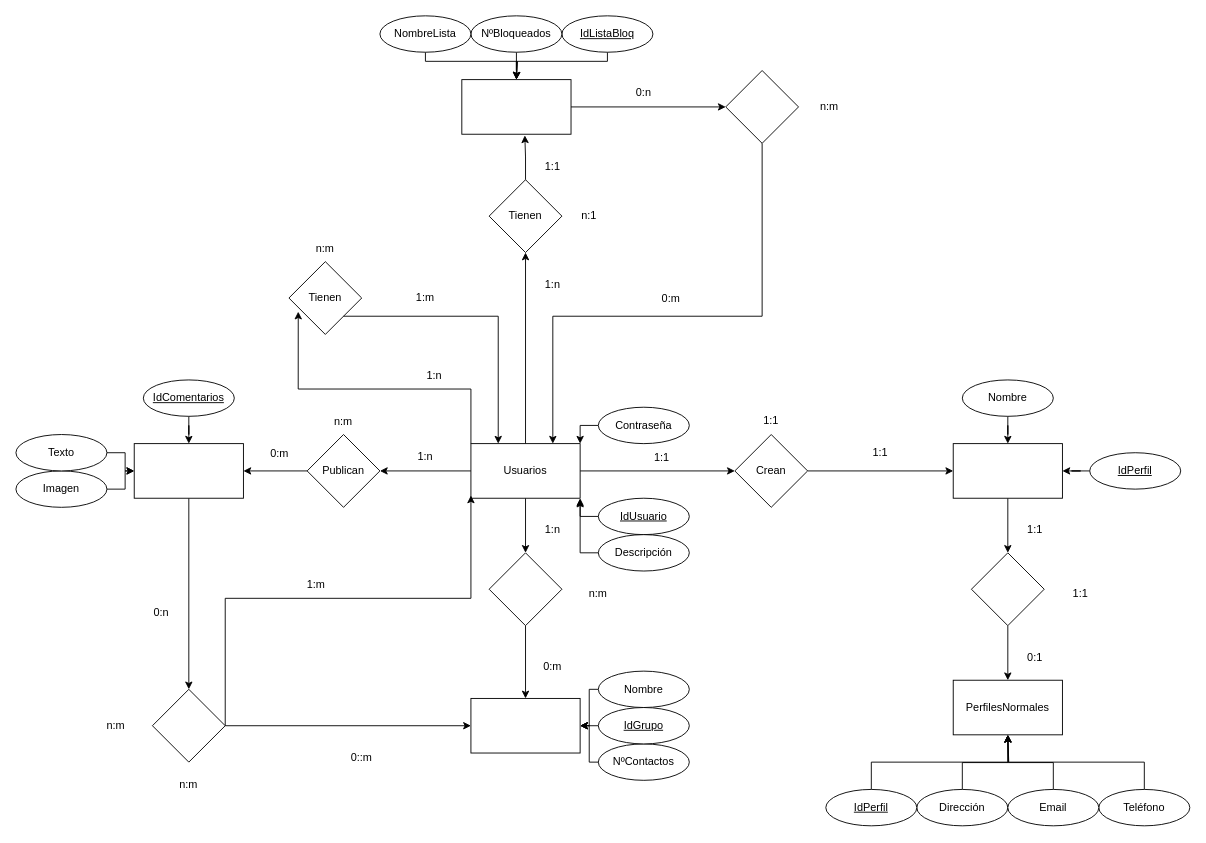
The diagram is 1206 pixels wide and 843 high, and some of its shapes have lost their labels. The shapes that lost their labels are listed below. From the top down, each one's centre as x and y in pixels, then its label:
At pixel 516 106: "ListasBloqueados".
At pixel 762 106: "Contienen".
At pixel 188 470: "Comentarios".
At pixel 1007 470: "Perfiles".
At pixel 525 589: "Pertenecen".
At pixel 1007 589: "Pueden ser".
At pixel 188 725: "SerVisibles".
At pixel 525 725: "GruposDeContactos".
